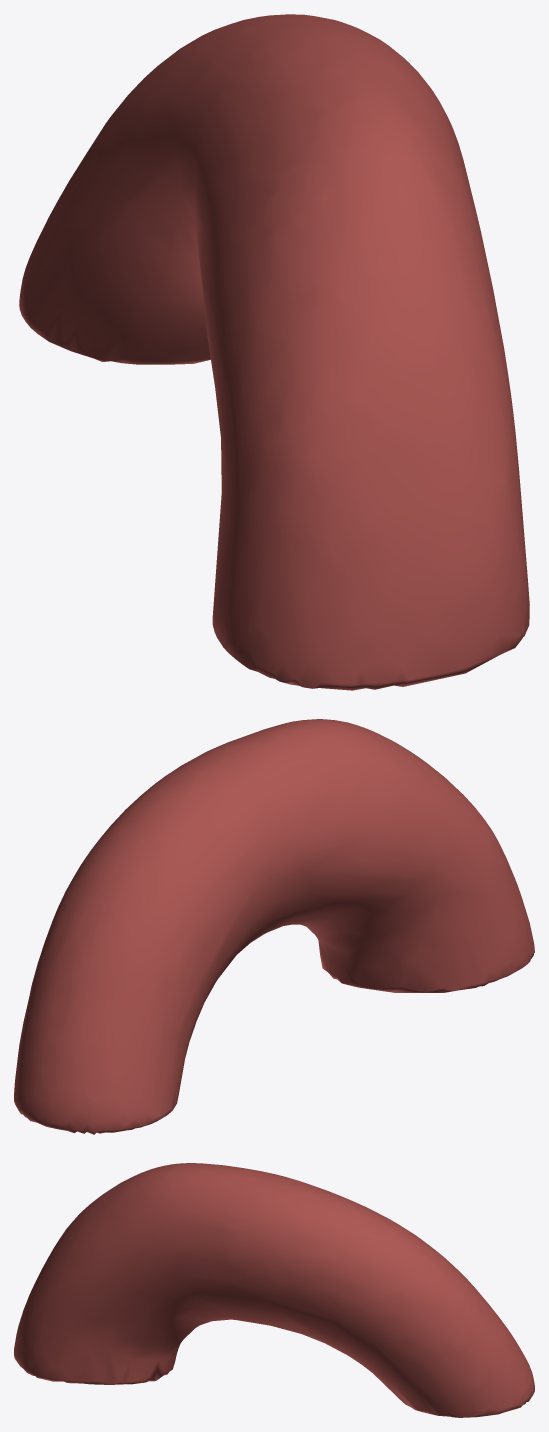
Rendered from FMA3768.glb.
3 renders of one model, top to bottom at view 1: azimuth 30°, elevation 25°; view 2: azimuth 150°, elevation 25°; view 3: azimuth 270°, elevation 25°, orthographic. The views are drawn at different scales.
Visible parts, largest first — view 1: FMA3768; view 2: FMA3768; view 3: FMA3768.
Part boxes in pixels (<box>): FMA3768: <box>19,14,529,690</box>; FMA3768: <box>14,719,534,1134</box>; FMA3768: <box>14,1163,534,1417</box>.
Bounding box in the file's own units: 0.0396 × 0.0375 × 0.0834.
